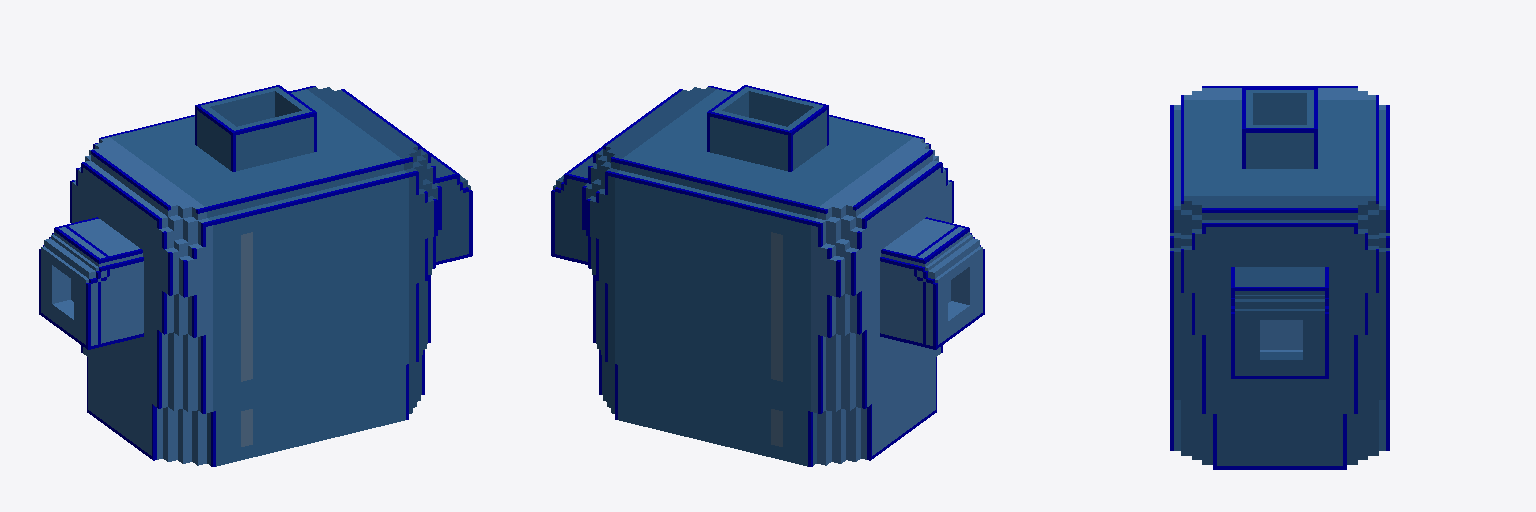
3 views of the same model, side by side, from view 1: azimuth 30°, elevation 25°; view 2: azimuth 150°, elevation 25°; view 3: azimuth 270°, elevation 25° (orthographic).
Visible parts, largest first — view 1: object 1; view 2: object 1; view 3: object 1.
Part boxes in pixels (left/top/right/bottom): object 1: left=39, top=85, right=472, bottom=466; object 1: left=551, top=85, right=984, bottom=466; object 1: left=1170, top=86, right=1389, bottom=469.
Size of the model in its own units: 12.3 by 9 by 6.1.
Materials: 1 (1 with a texture image).